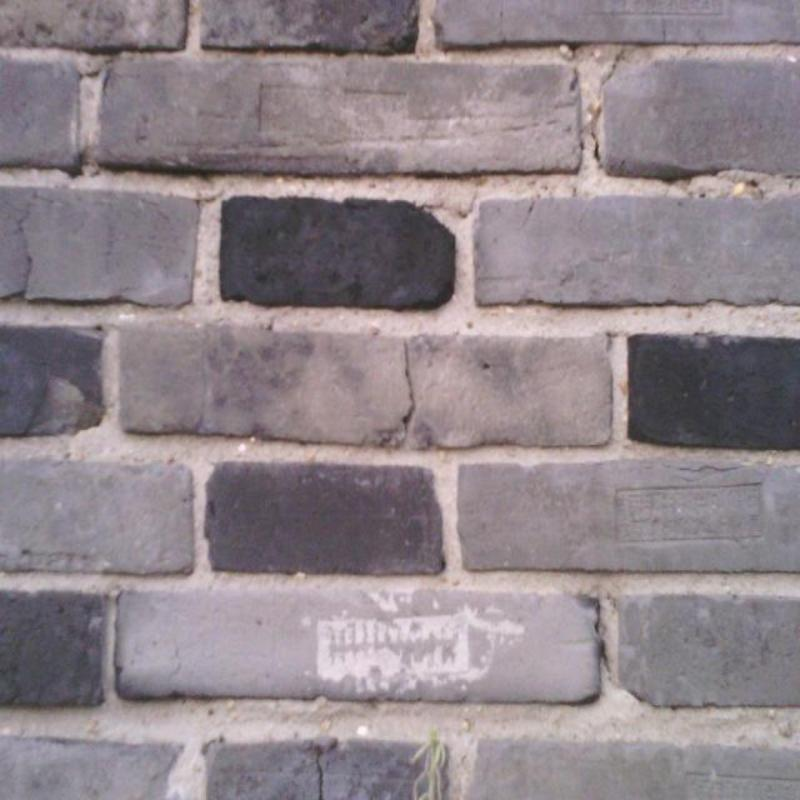pothole: (590, 50, 628, 160), (424, 194, 478, 217), (402, 344, 415, 434), (19, 205, 31, 295), (600, 639, 620, 688), (317, 751, 325, 798), (198, 191, 224, 204), (79, 70, 99, 79), (64, 169, 81, 175)
